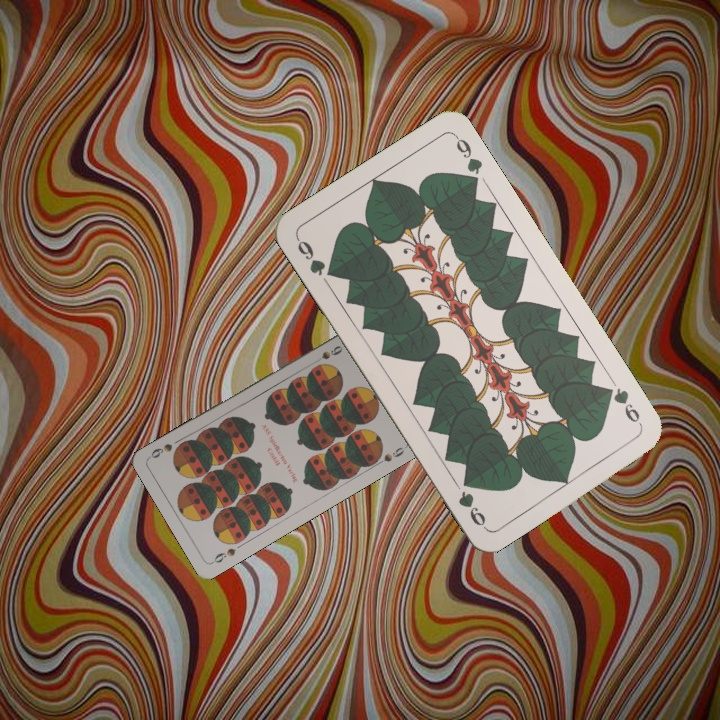G9: (292, 234, 339, 280), (599, 382, 645, 429)
S9: (208, 544, 238, 566), (318, 341, 345, 362)
